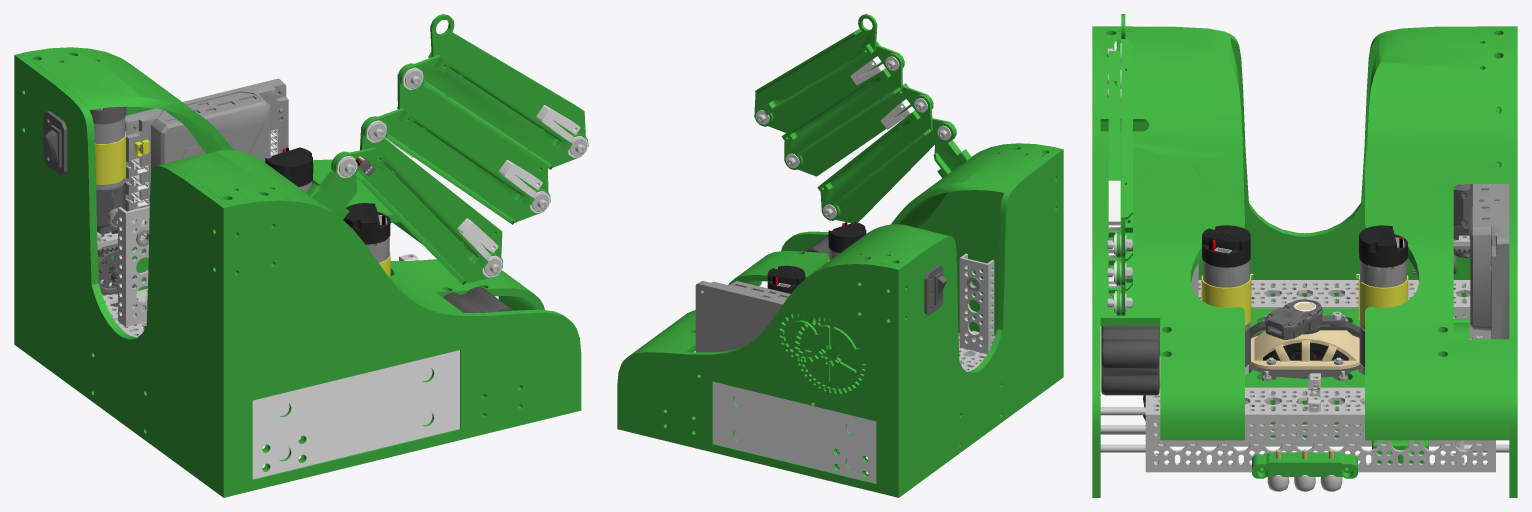
File: 2901Robot_Base.glb
The picture shows the model from 3 angles, left to right: view 1: azimuth 30°, elevation 25°; view 2: azimuth 150°, elevation 25°; view 3: azimuth 270°, elevation 25°; orthographic projection. The views are drawn at different scales.
Parts seen in each view (by area): view 1: mesh.002; view 2: mesh.002; view 3: mesh.002.
Boxes of the visible parts, x1,y1,x2,y2 form: mesh.002: [14, 14, 588, 497]; mesh.002: [617, 14, 1063, 497]; mesh.002: [1092, 14, 1517, 497].
Bounding box in the file's own units: 0.3446 × 0.3622 × 0.3207.
Materials: 1 (1 with a texture image).
